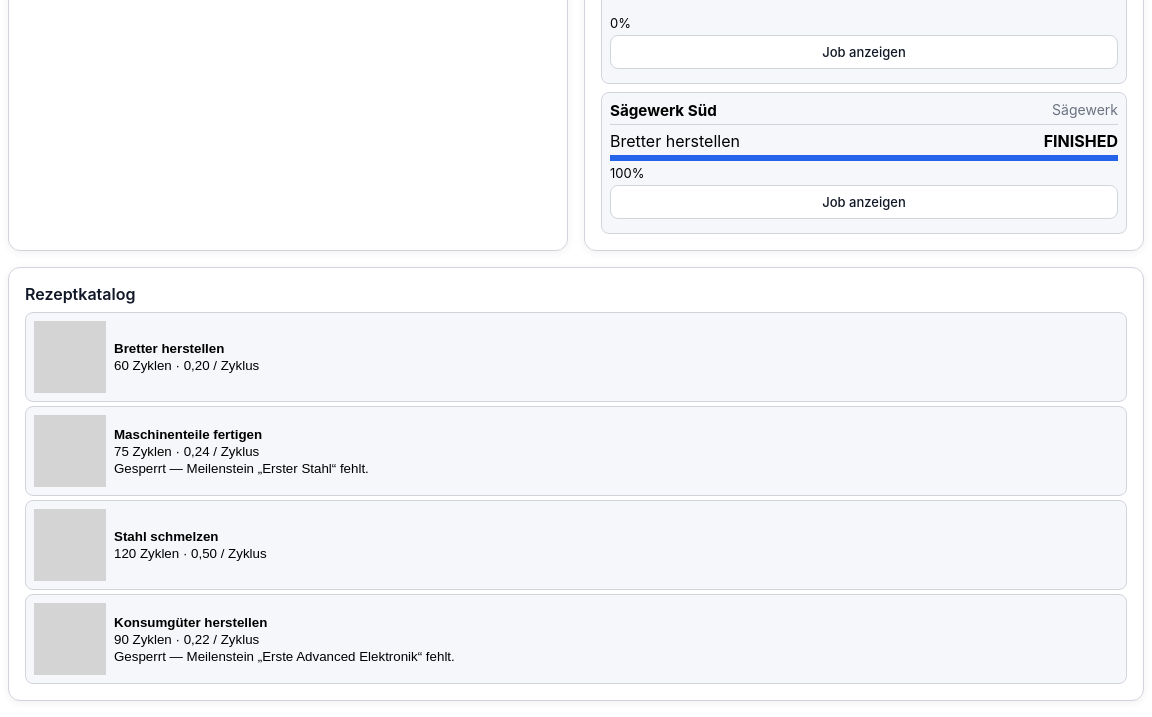
ProductionScreen › shows Weiterverwendung consumers beneath Ausgaben for the selected recipe
The image size is (1152, 717).
(page scrolled)
Click the button "Bretter herstellen 60 Zyklen · 0,20 / Zyklus" at (70, 357), box [25,312,1127,402]
(page scrolled)
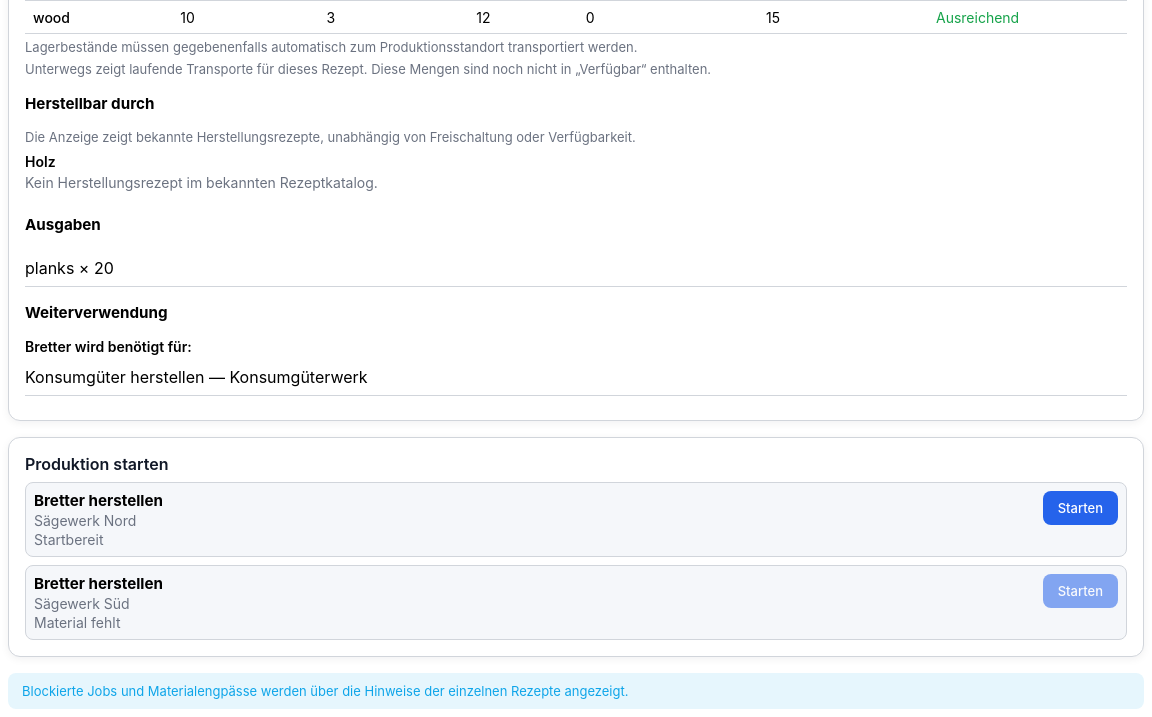
Check: the text "Weiterverwendung" is shown, box [25,303,168,322]
Check: the text "Bretter wird benötigt für:" is shown, box [25,338,192,355]
Check: the text "Konsumgüter herstellen — Konsumgüterwerk" is shown, box [25,367,368,387]
